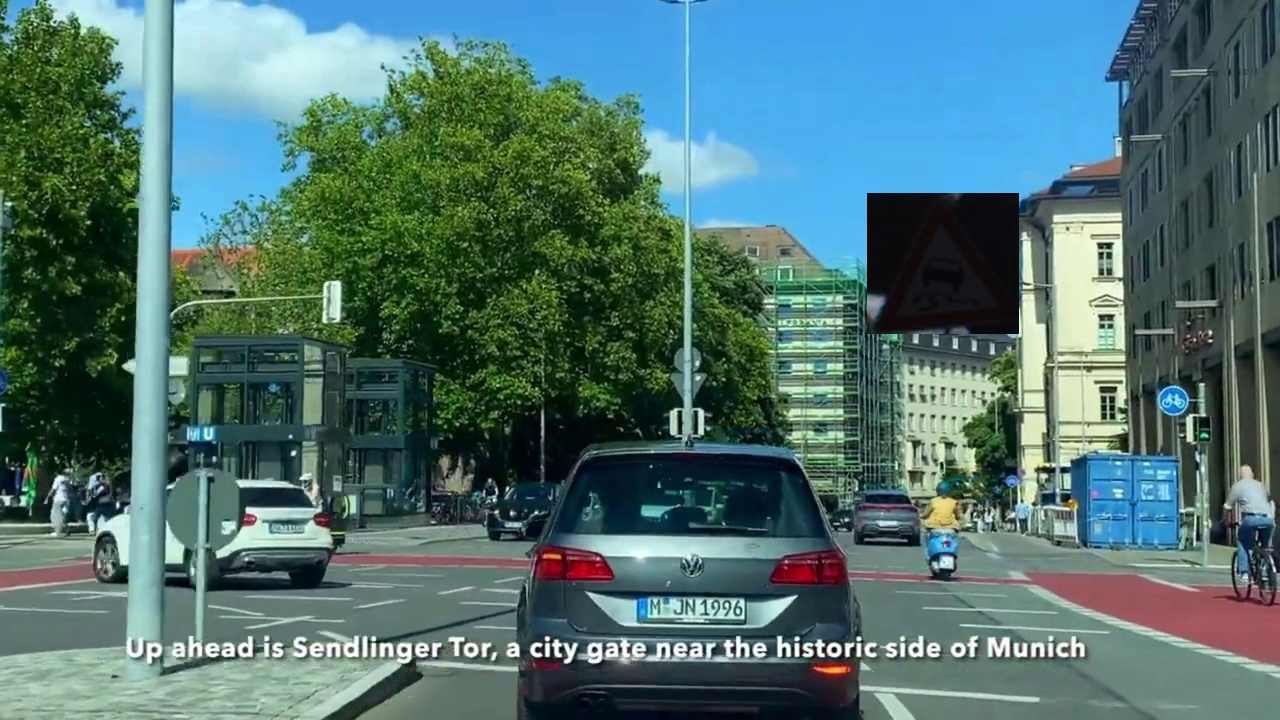Slippery: (867, 193, 1019, 334)
